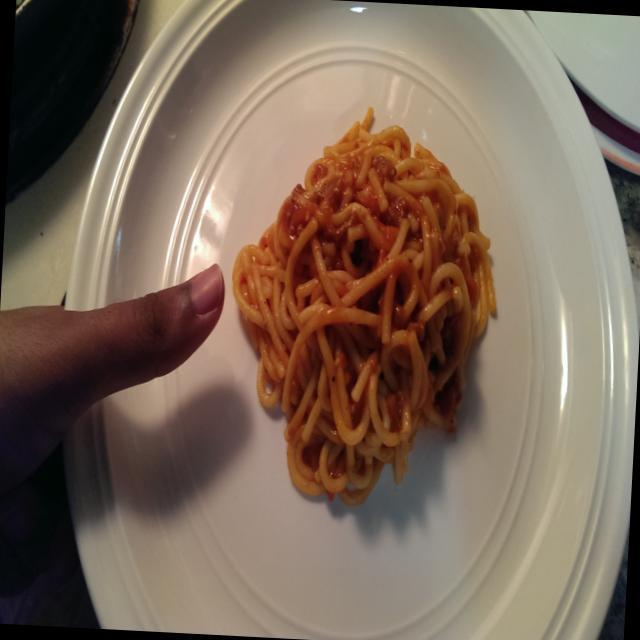Pasta: (224, 100, 546, 532)
